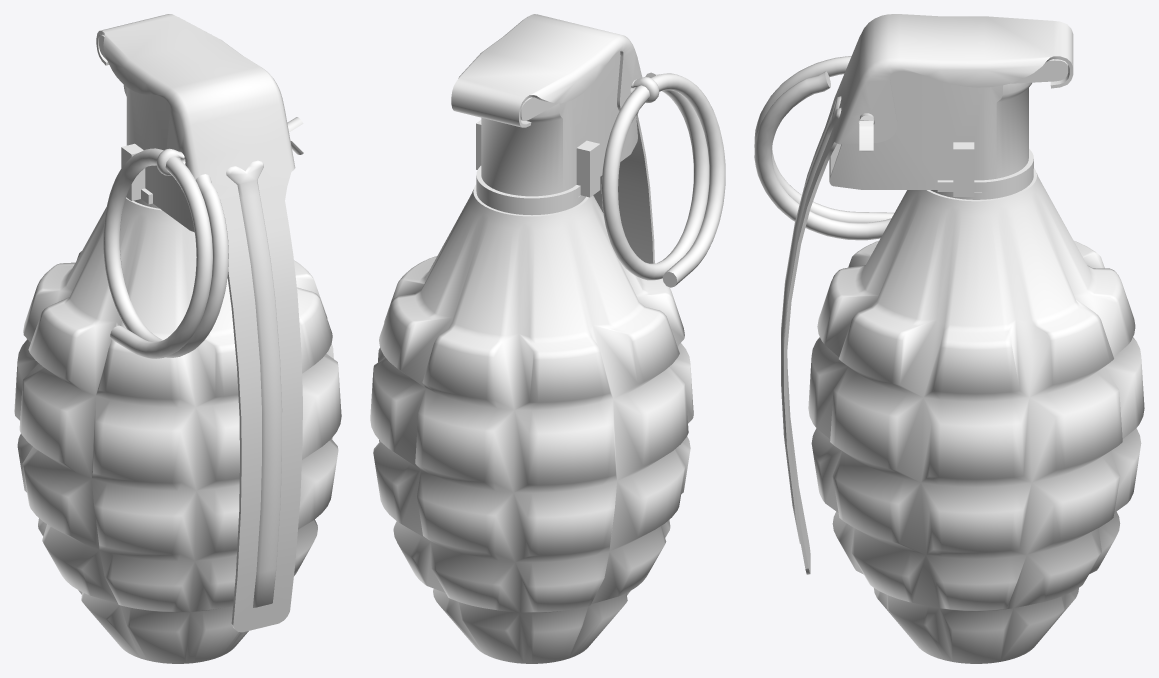
3 views of the same model, side by side, from view 1: azimuth 30°, elevation 25°; view 2: azimuth 150°, elevation 25°; view 3: azimuth 270°, elevation 25° (orthographic). The views are drawn at different scales.
Parts seen in each view (by area): view 1: LOD0_Mono.001; view 2: LOD0_Mono.001; view 3: LOD0_Mono.001.
Part boxes in pixels (x1,y1,x2,y2): LOD0_Mono.001: [14, 14, 341, 663]; LOD0_Mono.001: [370, 14, 725, 663]; LOD0_Mono.001: [754, 14, 1144, 663].
Bounding box in the file's own units: 0.1446 × 0.2856 × 0.1678.
1 material, 1 textured.
